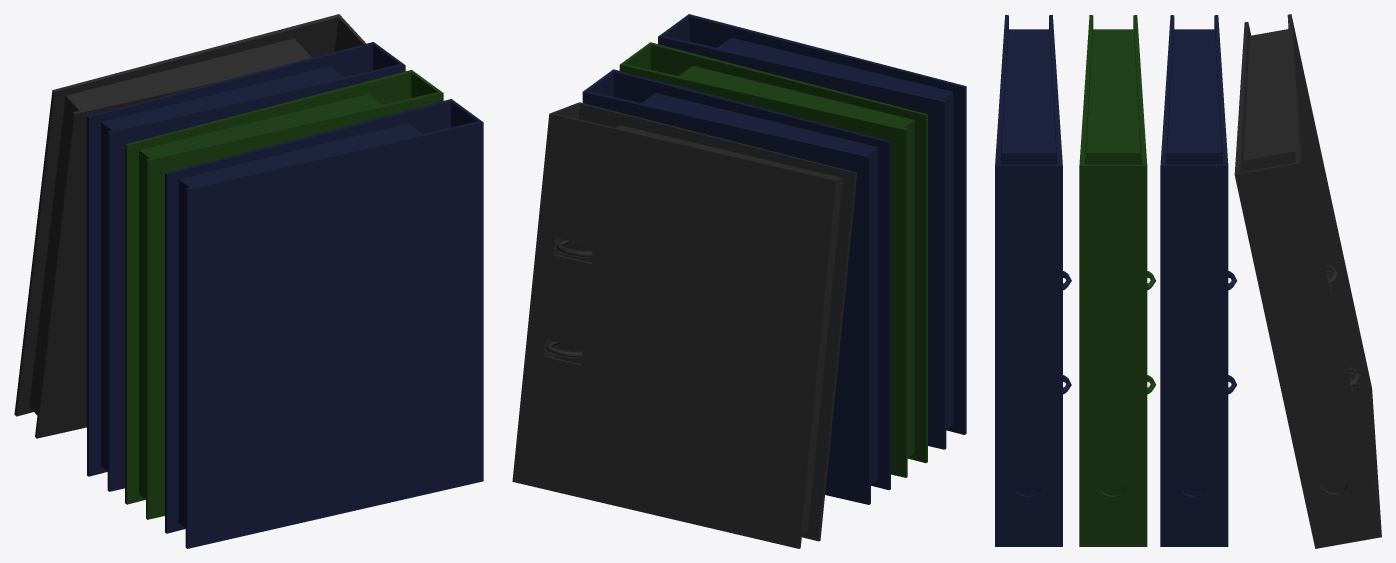
The model's file is folders.fbx.
3 renders of one model, left to right at view 1: azimuth 30°, elevation 25°; view 2: azimuth 150°, elevation 25°; view 3: azimuth 270°, elevation 25°, orthographic. The views are drawn at different scales.
Parts seen in each view (by area): view 1: Folder_UV2, Folder_UV1, Folder_UV1.001, Folder_UV2.001; view 2: Folder_UV1, Folder_UV2.001, Folder_UV2, Folder_UV1.001; view 3: Folder_UV1, Folder_UV2.001, Folder_UV1.001, Folder_UV2.
Boxes of the visible parts, x1,y1,x2,y2 form: Folder_UV2: (165,99,483,548); Folder_UV1: (14,14,365,438); Folder_UV1.001: (125,70,443,519); Folder_UV2.001: (87,42,405,491); Folder_UV1: (512,102,857,548); Folder_UV2.001: (582,69,890,504); Folder_UV2: (658,14,966,449); Folder_UV1.001: (619,42,927,477); Folder_UV1: (1234,14,1381,548); Folder_UV2.001: (1160,15,1236,546); Folder_UV1.001: (1079,15,1155,546); Folder_UV2: (995,15,1071,546).
Bounding box in the file's own units: 192 × 229 × 208.
